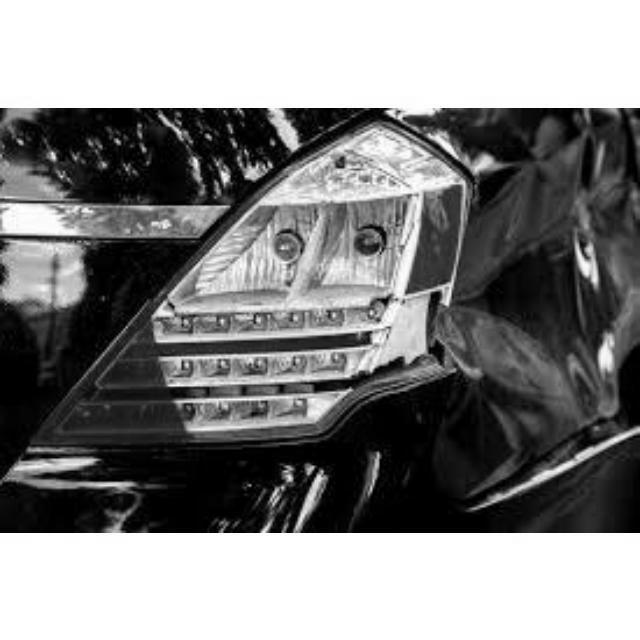Headlight-damage: (142, 108, 486, 461)
